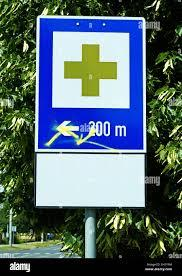Hospital: (38, 14, 148, 153)
